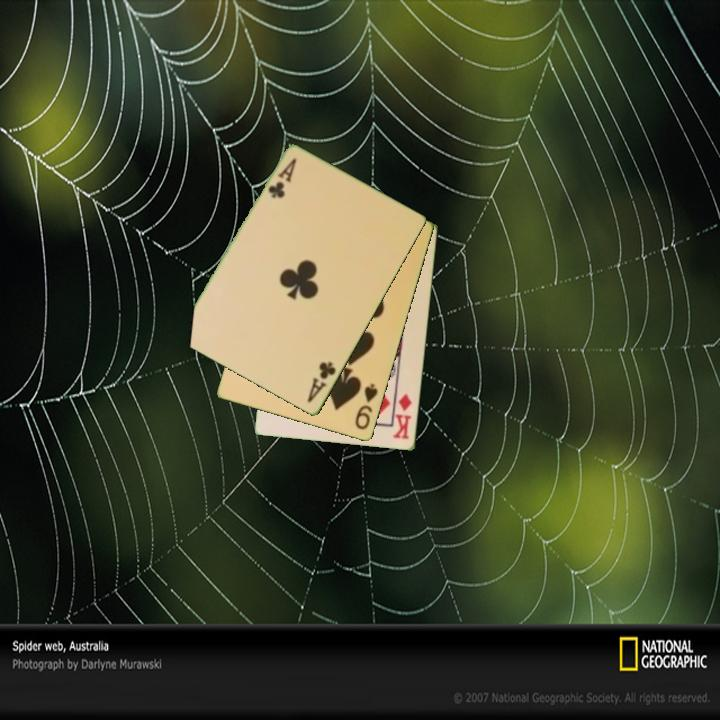9s: (352, 380, 381, 433)
Ac: (264, 154, 300, 202), (304, 358, 339, 406)
Kd: (390, 390, 415, 442)
